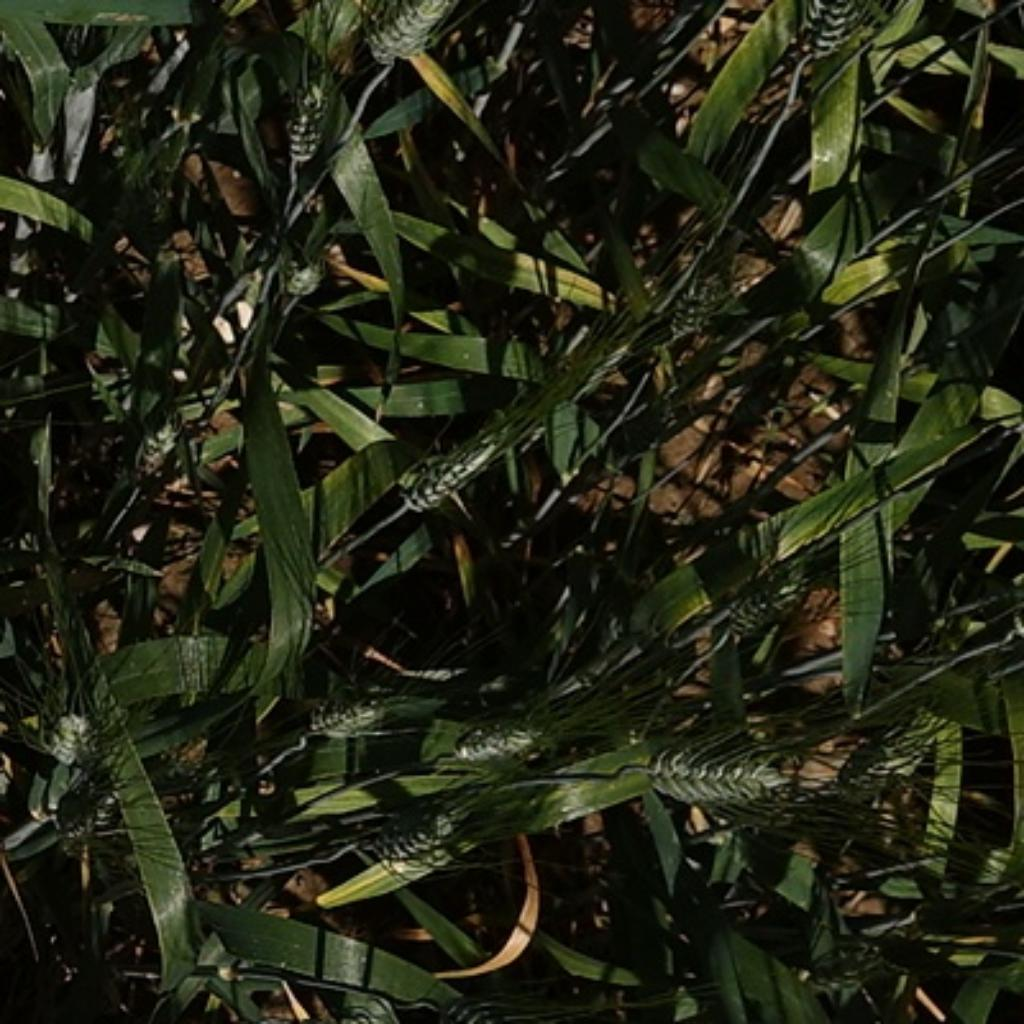0-0: (632, 734, 785, 811), (395, 428, 505, 518), (720, 552, 820, 647), (271, 212, 343, 322), (653, 272, 745, 356), (350, 2, 460, 64), (437, 717, 556, 773), (275, 67, 338, 167), (35, 705, 115, 778), (53, 775, 125, 855), (348, 806, 448, 861), (296, 687, 399, 737), (132, 399, 189, 477), (432, 982, 532, 1024), (401, 830, 486, 879), (791, 2, 850, 64), (327, 989, 420, 1024)
